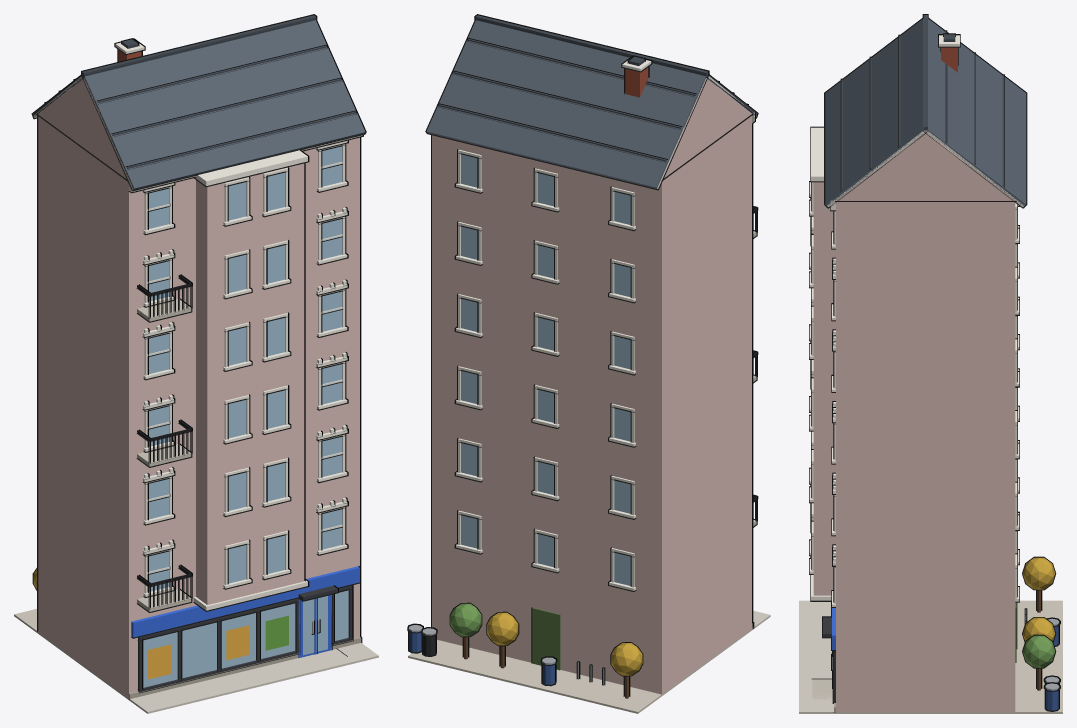
The model's file is Blok_duz_7k_4.fbx.
3 views of the same model, side by side, from view 1: azimuth 30°, elevation 25°; view 2: azimuth 150°, elevation 25°; view 3: azimuth 270°, elevation 25° (orthographic).
Visible parts, largest first — view 1: Blok_duz_7k_4; view 2: Blok_duz_7k_4; view 3: Blok_duz_7k_4.
Part boxes in pixels (left/top/right/bottom): Blok_duz_7k_4: left=14, top=14, right=378, bottom=713; Blok_duz_7k_4: left=407, top=14, right=770, bottom=713; Blok_duz_7k_4: left=799, top=14, right=1062, bottom=713.
Size of the model in its own units: 10.3 by 24.96 by 10.
